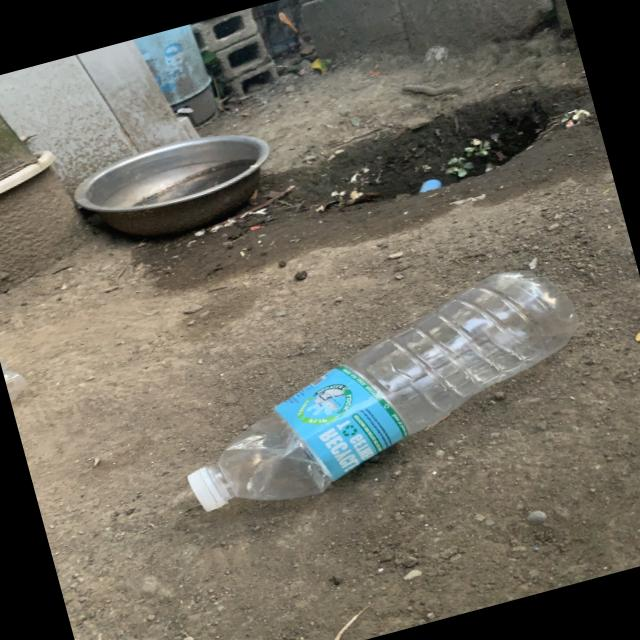Bottle: (188, 271, 577, 511)
